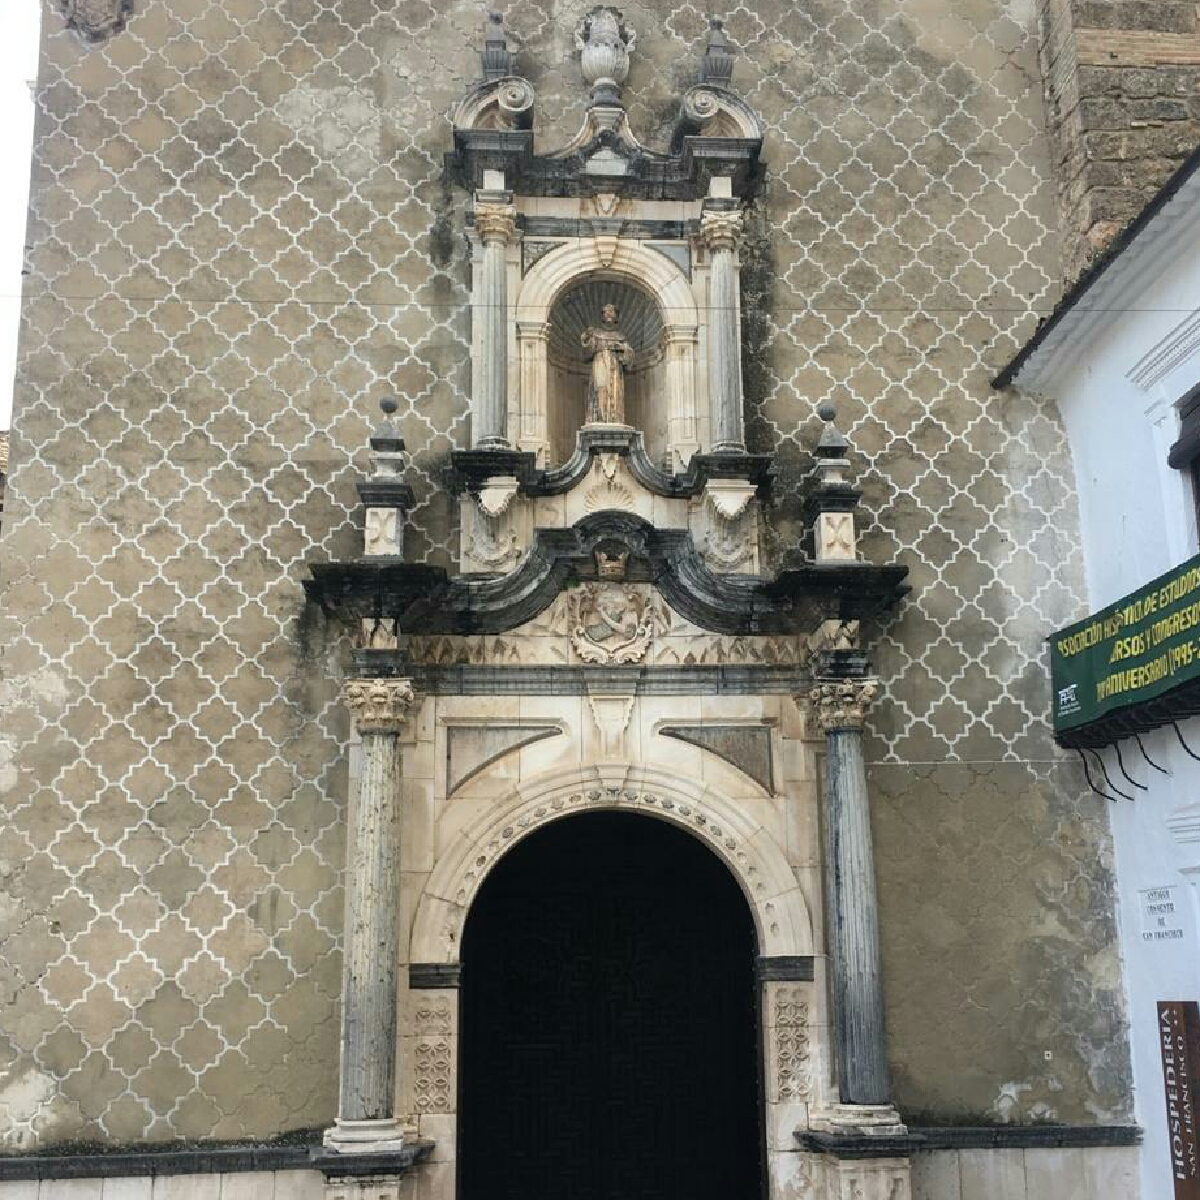arco-medio-punto: (441, 786, 789, 1018), (527, 238, 689, 355)
fronton-partido: (446, 74, 771, 173)
